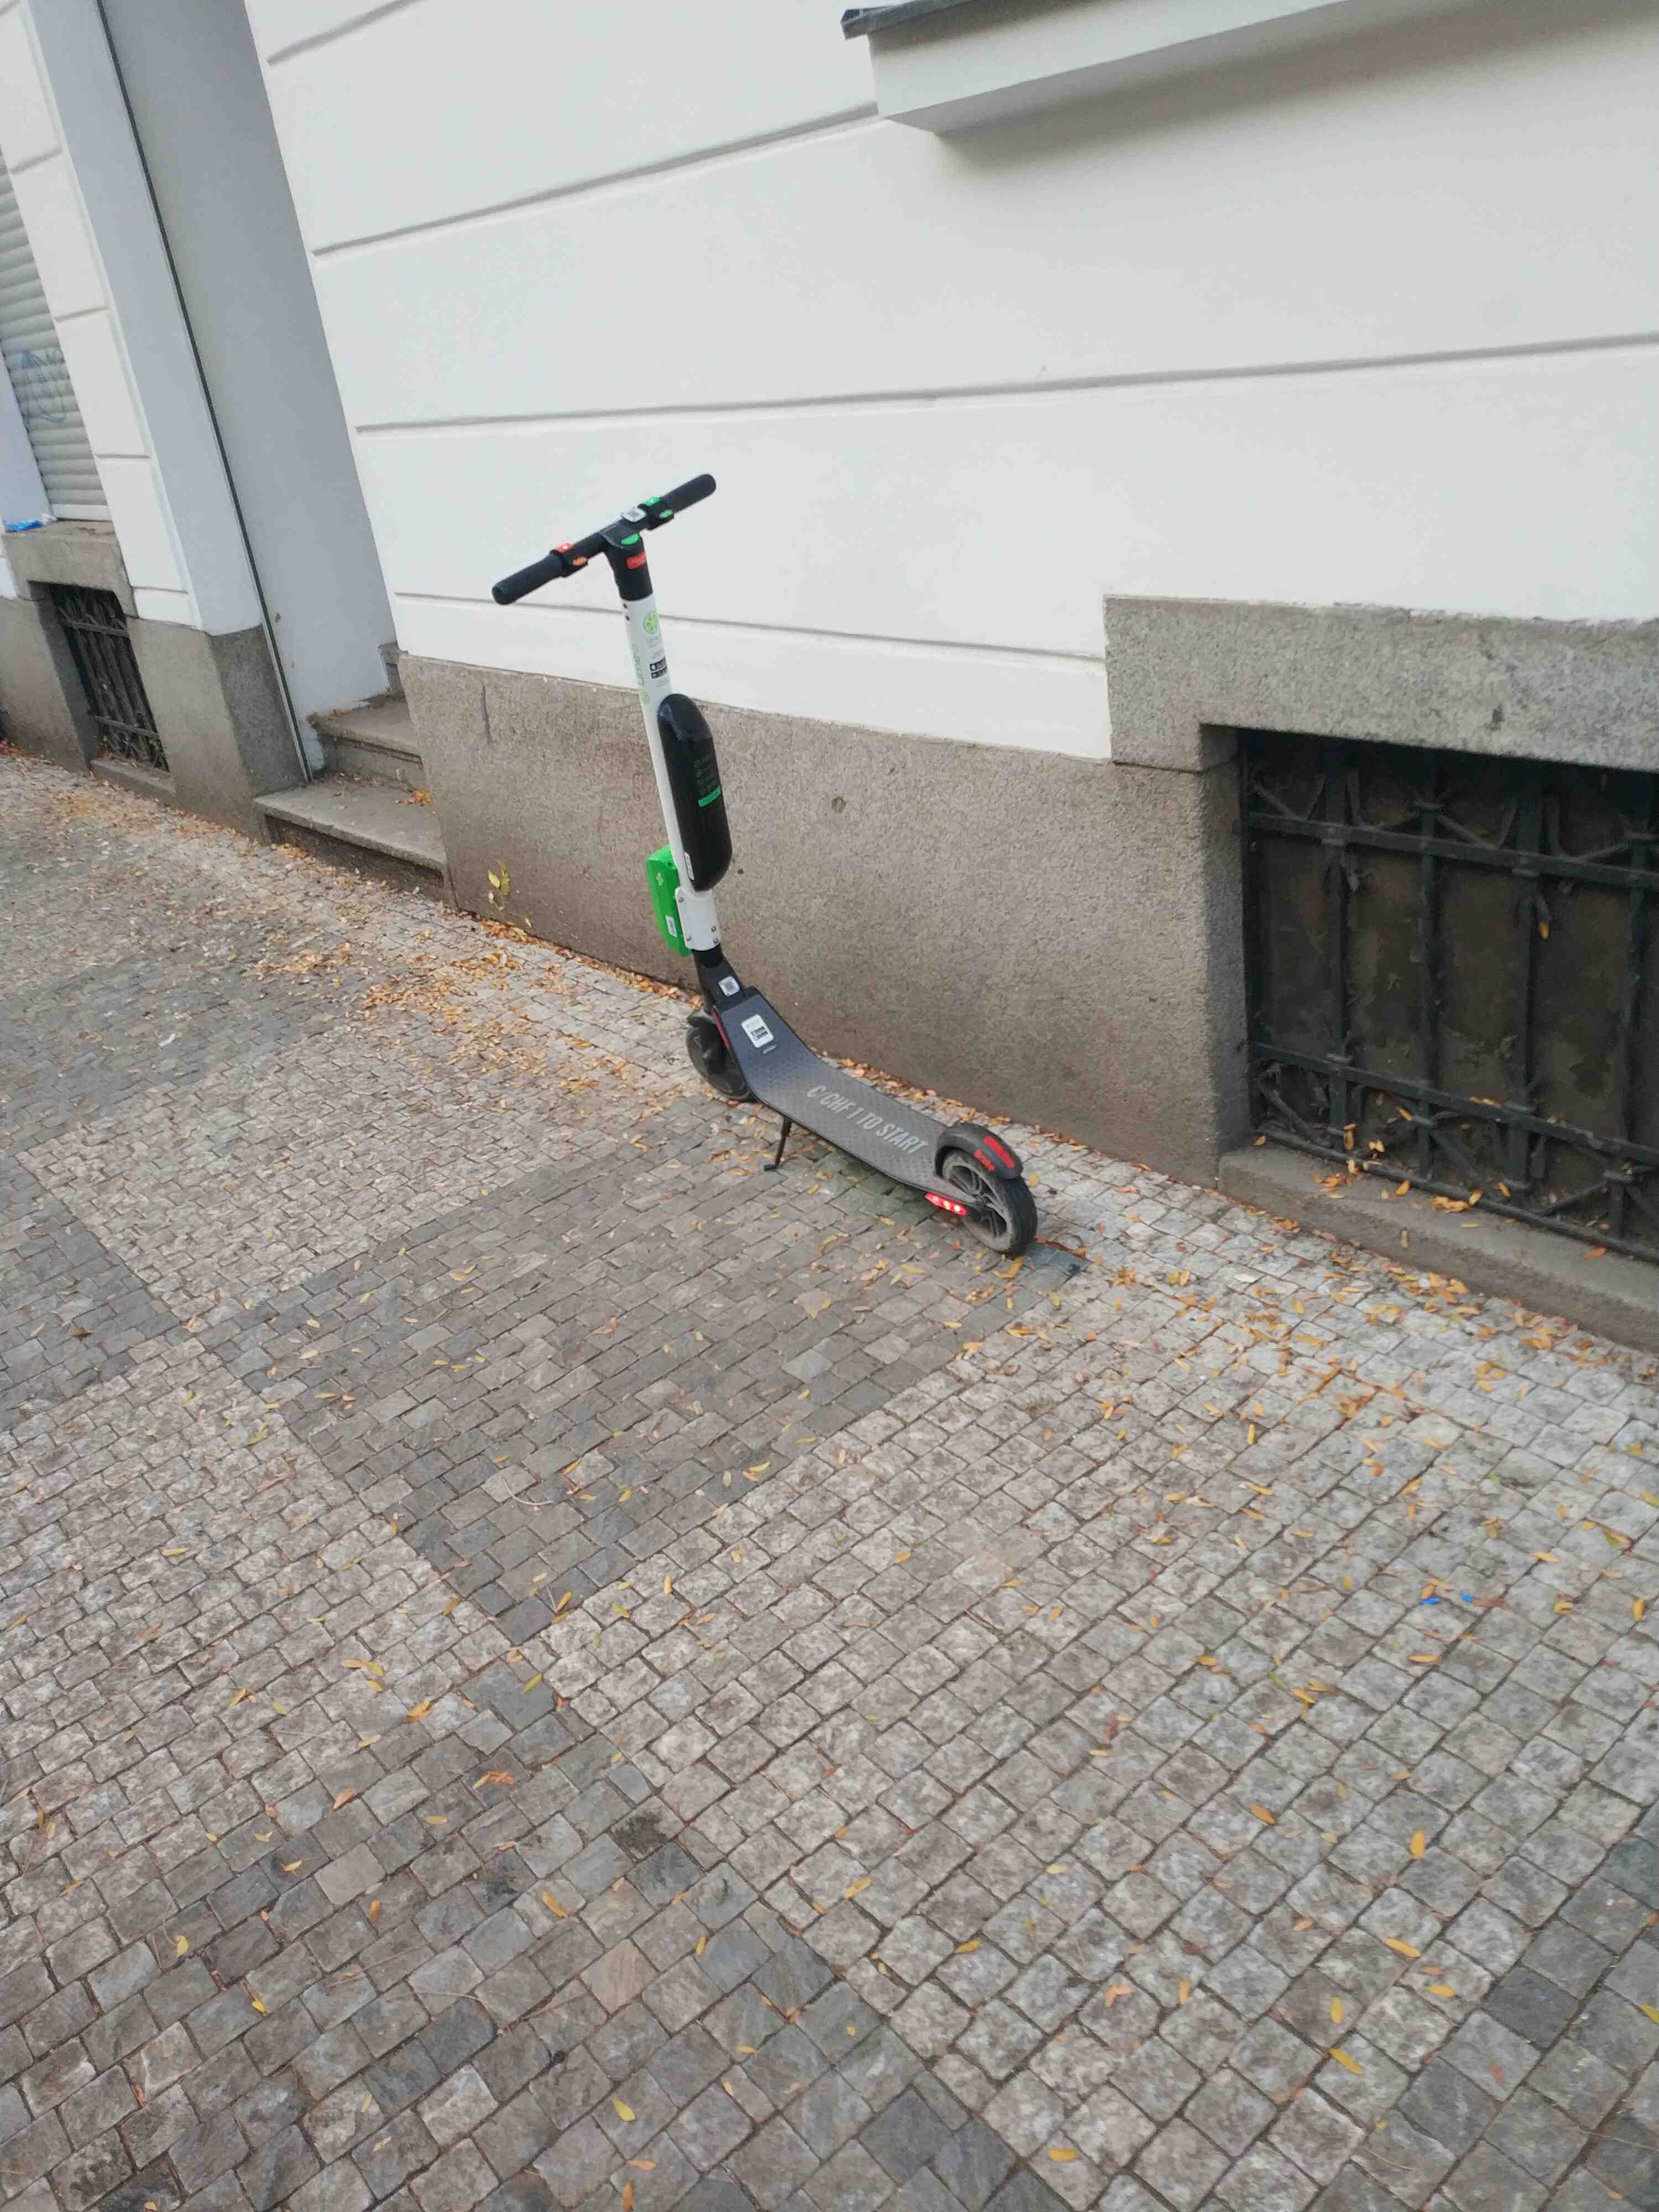scooter: (457, 482, 1082, 1270)
